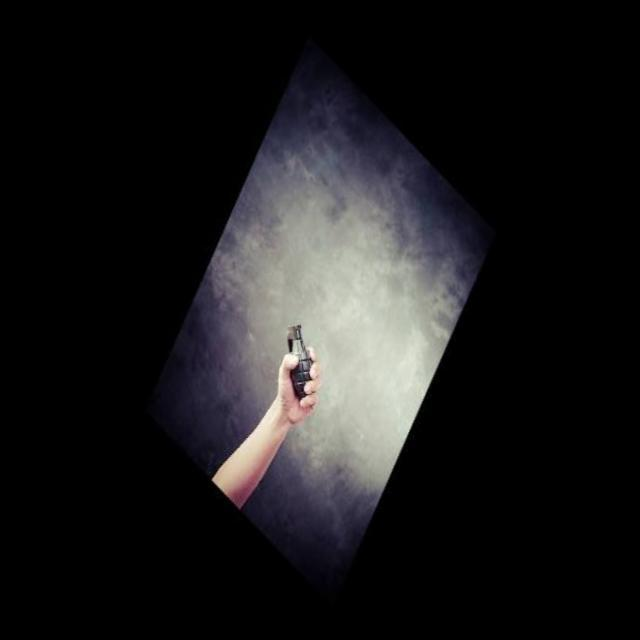grenade: (277, 322, 324, 405)
